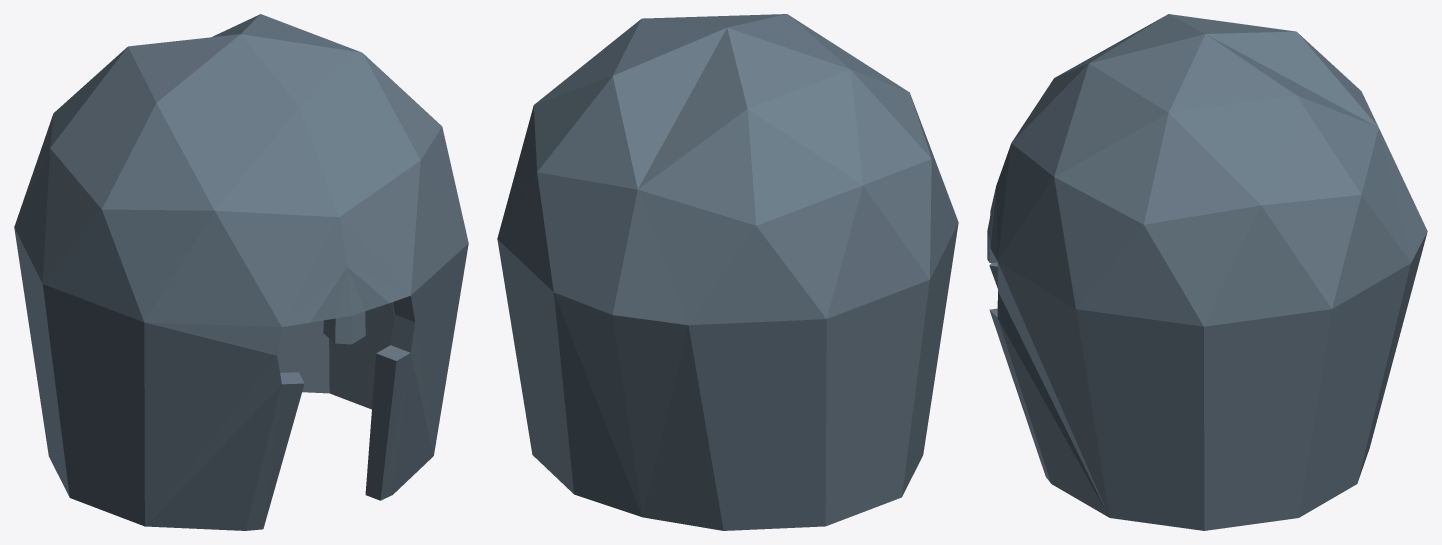
Rendered from helmet.obj.
The picture shows the model from 3 angles, left to right: view 1: azimuth 30°, elevation 25°; view 2: azimuth 150°, elevation 25°; view 3: azimuth 270°, elevation 25°; orthographic projection. The views are drawn at different scales.
Visible parts, largest first — view 1: helmet.003; view 2: helmet.003; view 3: helmet.003.
Part boxes in pixels (x1,y1,x2,y2): helmet.003: [14, 14, 468, 530]; helmet.003: [497, 14, 958, 530]; helmet.003: [987, 14, 1427, 530].
Bounding box in the file's own units: 1.42 × 1.44 × 1.39.
1 material, 1 textured.
